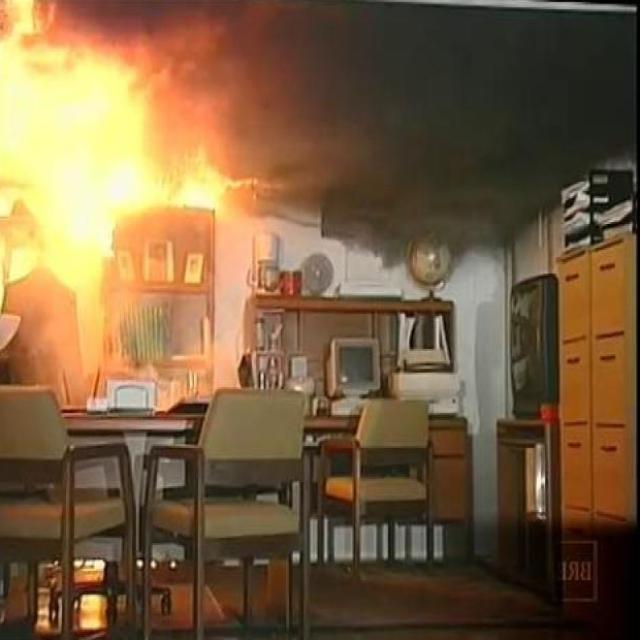fire: (257, 0, 635, 263)
smoke: (0, 0, 233, 302)
